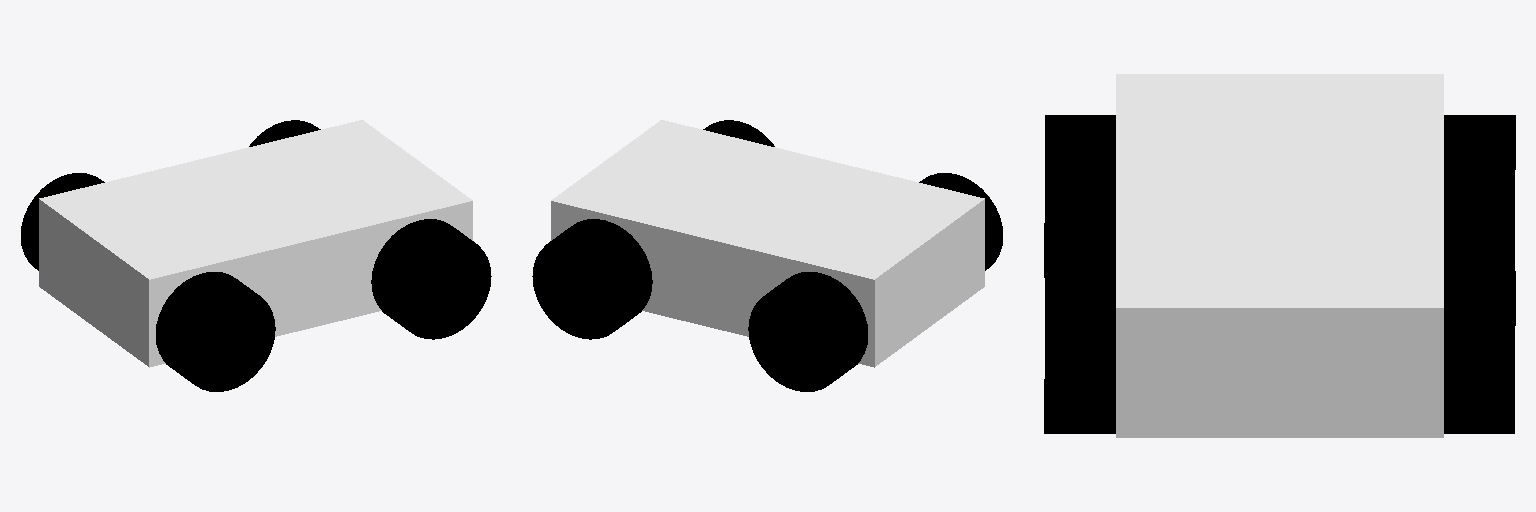
robot.urdf — wheeltec_robot:
<?xml version="1.0" ?>
<robot name="wheeltec_robot">

    <link name="base_link">
        <visual>
            <origin xyz=" 0 0 0.05" rpy="0 0 0" />
            <geometry>
                <box size="0.27 0.16 0.07"/>
            </geometry>
            <material name="white">
                <color rgba="1 1 1 1"/>
            </material>
        </visual>
    </link>   

    <joint name="left_wheel_joint" type="continuous">
        <origin xyz="-0.09 0.095 0.04" rpy="1.57 0 0"/>
        <parent link="base_link"/>
        <child link="left_wheel_link"/>
        <axis xyz="0 1 0"/>
    </joint>

    <link name="left_wheel_link">
        <visual>
            <origin xyz="0 0 0" rpy="0 0 0" />
            <geometry>
                <cylinder radius="0.04" length = "0.04"/>
            </geometry>
            <material name="black">
                <color rgba="0 0 0 1"/>
            </material>
        </visual>
    </link>

    <joint name="right_wheel_joint" type="continuous">
        <origin xyz="-0.09 -0.095 0.04" rpy="1.57 0 0"/>
        <parent link="base_link"/>
        <child link="right_wheel_link"/>
        <axis xyz="0 1 0"/>
    </joint>

    <link name="right_wheel_link">
        <visual>
            <origin xyz="0 0 0" rpy="0 0 0" />
            <geometry>
                <cylinder radius="0.04" length = "0.04"/>
            </geometry>
            <material name="black">
                <color rgba="0 0 0 1"/>
            </material>
        </visual>
    </link>

      <joint name="left_front_joint" type="continuous">
        <origin xyz="0.09 0.095 0.04" rpy="1.57 0 0"/>
        <parent link="base_link"/>
        <child link="left_front_link"/>
        <axis xyz="0 1 0"/>
    </joint>

    <link name="left_front_link">
        <visual>
            <origin xyz="0 0 0" rpy="0 0 0" />
            <geometry>
                <cylinder radius="0.04" length = "0.04"/>
            </geometry>
            <material name="black">
                <color rgba="0 0 0 1"/>
            </material>
        </visual>
    </link>

    <joint name="right_front_joint" type="continuous">
        <origin xyz="0.09 -0.095 0.04" rpy="1.57 0 0"/>
        <parent link="base_link"/>
        <child link="right_front_link"/>
        <axis xyz="0 1 0"/>
    </joint>

    <link name="right_front_link">
        <visual>
            <origin xyz="0 0 0" rpy="0 0 0" />
            <geometry>
                <cylinder radius="0.04" length = "0.04"/>
            </geometry>
            <material name="black">
                <color rgba="0 0 0 1"/>
            </material>
        </visual>
    </link>


</robot>

--- Render facts (derived) ---
The picture shows the robot from 3 angles, left to right: view 1: azimuth 30°, elevation 25°; view 2: azimuth 150°, elevation 25°; view 3: azimuth 270°, elevation 25°; orthographic projection.
Robot: wheeltec_robot — 5 links, 4 joints (4 continuous); root link base_link; default pose: every joint at zero.
Visible links, largest first — view 1: base_link, right_wheel_link, right_front_link, left_wheel_link, left_front_link; view 2: base_link, left_wheel_link, left_front_link, right_wheel_link, right_front_link; view 3: base_link, left_front_link, right_front_link, left_wheel_link, right_wheel_link.
Link boxes in pixels (x1,y1,x2,y2): base_link: [39, 120, 472, 367]; right_wheel_link: [156, 272, 275, 391]; right_front_link: [371, 219, 491, 339]; left_wheel_link: [21, 173, 104, 270]; left_front_link: [249, 120, 320, 146]; base_link: [551, 120, 984, 367]; left_wheel_link: [748, 272, 867, 391]; left_front_link: [532, 219, 652, 339]; right_wheel_link: [919, 173, 1002, 270]; right_front_link: [703, 120, 774, 146]; base_link: [1116, 74, 1443, 437]; left_front_link: [1444, 271, 1515, 433]; right_front_link: [1044, 271, 1115, 433]; left_wheel_link: [1444, 115, 1515, 270]; right_wheel_link: [1044, 115, 1115, 277].
Size in the robot's own frame: 0.27 by 0.2301 by 0.085 metres.
Geometry: primitives only (box / cylinder / sphere), no mesh files.
